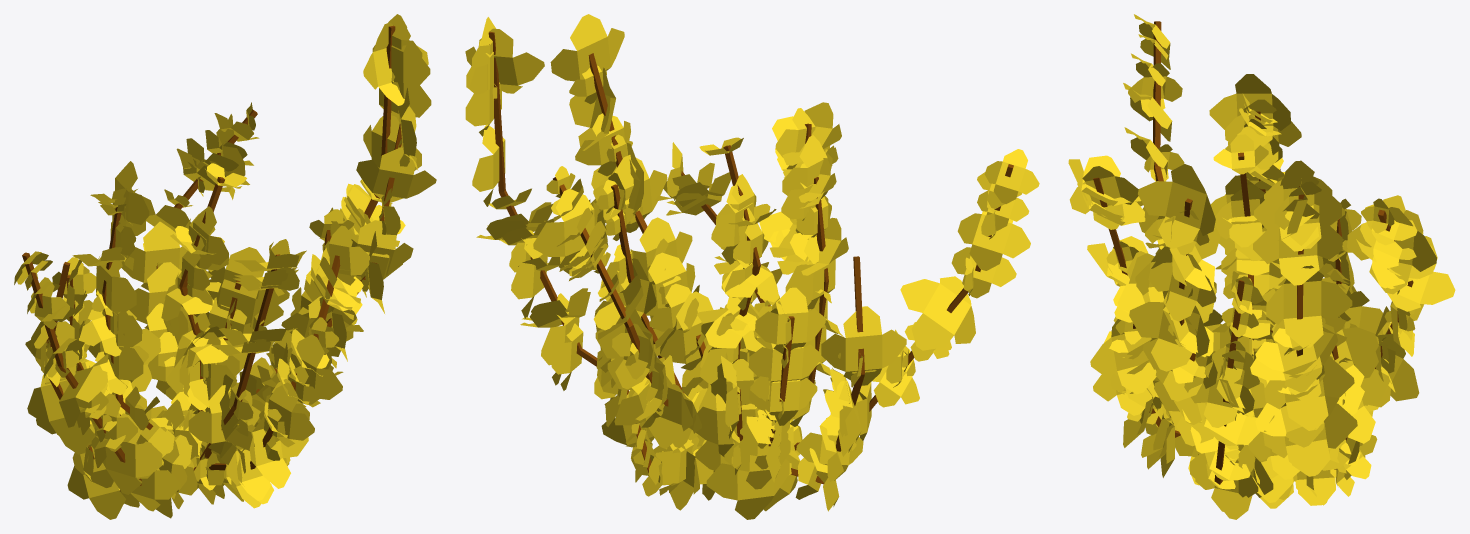
The model's file is flower_yellow.fbx.
3 views of the same model, side by side, from view 1: azimuth 30°, elevation 25°; view 2: azimuth 150°, elevation 25°; view 3: azimuth 270°, elevation 25° (orthographic). The views are drawn at different scales.
Parts seen in each view (by area): view 1: Cube.001, Cube.001|Plane.002|Dupli|128, Cube.001|Plane.002|Dupli|31, Cube.001|Plane.002|Dupli|90, Cube.001|Plane.002|Dupli|269, Cube.001|Plane.002|Dupli|261, Cube.001|Plane.002|Dupli|216, Cube.001|Plane.002|Dupli|250, Cube.001|Plane.002|Dupli|23, Cube.001|Plane.002|Dupli|71, Cube.001|Plane.002|Dupli|264, Cube.001|Plane.002|Dupli|4 (+65 smaller); view 2: Cube.001, Cube.001|Plane.002|Dupli|23, Cube.001|Plane.002|Dupli|221, Cube.001|Plane.002|Dupli|130, Cube.001|Plane.002|Dupli|99, Cube.001|Plane.002|Dupli|298, Cube.001|Plane.002|Dupli|40, Cube.001|Plane.002|Dupli|282, Cube.001|Plane.002|Dupli|71, Cube.001|Plane.002|Dupli|113, Cube.001|Plane.002|Dupli|296, Cube.001|Plane.002|Dupli|36 (+53 smaller); view 3: Cube.001|Plane.002|Dupli|130, Cube.001|Plane.002|Dupli|67, Cube.001, Cube.001|Plane.002|Dupli|68, Cube.001|Plane.002|Dupli|123, Cube.001|Plane.002|Dupli|184, Cube.001|Plane.002|Dupli|55, Cube.001|Plane.002|Dupli|58, Cube.001|Plane.002|Dupli|99, Cube.001|Plane.002|Dupli|269, Cube.001|Plane.002|Dupli|127, Cube.001|Plane.002|Dupli|251 (+69 smaller).
Part boxes in pixels (x1,y1,x2,y2): Cube.001: [22, 25, 401, 491]; Cube.001|Plane.002|Dupli|128: [356, 147, 436, 202]; Cube.001|Plane.002|Dupli|31: [91, 413, 162, 494]; Cube.001|Plane.002|Dupli|90: [121, 221, 187, 290]; Cube.001|Plane.002|Dupli|269: [287, 334, 342, 407]; Cube.001|Plane.002|Dupli|261: [249, 409, 308, 488]; Cube.001|Plane.002|Dupli|216: [27, 374, 81, 443]; Cube.001|Plane.002|Dupli|250: [207, 265, 283, 327]; Cube.001|Plane.002|Dupli|23: [59, 354, 108, 427]; Cube.001|Plane.002|Dupli|71: [363, 22, 428, 105]; Cube.001|Plane.002|Dupli|264: [265, 382, 314, 447]; Cube.001|Plane.002|Dupli|4: [188, 385, 260, 454]; Cube.001: [488, 31, 1013, 484]; Cube.001|Plane.002|Dupli|23: [900, 276, 975, 350]; Cube.001|Plane.002|Dupli|221: [821, 306, 906, 385]; Cube.001|Plane.002|Dupli|130: [550, 14, 624, 81]; Cube.001|Plane.002|Dupli|99: [533, 189, 599, 274]; Cube.001|Plane.002|Dupli|298: [755, 287, 825, 353]; Cube.001|Plane.002|Dupli|40: [957, 211, 1030, 270]; Cube.001|Plane.002|Dupli|282: [706, 459, 789, 519]; Cube.001|Plane.002|Dupli|71: [465, 28, 544, 93]; Cube.001|Plane.002|Dupli|113: [655, 291, 723, 370]; Cube.001|Plane.002|Dupli|296: [748, 343, 821, 382]; Cube.001|Plane.002|Dupli|36: [984, 149, 1039, 203]; Cube.001|Plane.002|Dupli|130: [1138, 164, 1215, 248]; Cube.001|Plane.002|Dupli|67: [1266, 265, 1352, 347]; Cube.001: [1093, 21, 1413, 484]; Cube.001|Plane.002|Dupli|68: [1253, 199, 1342, 285]; Cube.001|Plane.002|Dupli|123: [1129, 290, 1209, 371]; Cube.001|Plane.002|Dupli|184: [1209, 74, 1290, 149]; Cube.001|Plane.002|Dupli|55: [1263, 403, 1357, 475]; Cube.001|Plane.002|Dupli|58: [1264, 366, 1354, 430]; Cube.001|Plane.002|Dupli|99: [1347, 207, 1436, 294]; Cube.001|Plane.002|Dupli|269: [1090, 319, 1157, 394]; Cube.001|Plane.002|Dupli|127: [1148, 253, 1216, 321]; Cube.001|Plane.002|Dupli|251: [1322, 316, 1378, 401].
Size of the model in its own units: 1802 by 1513 by 1170.
